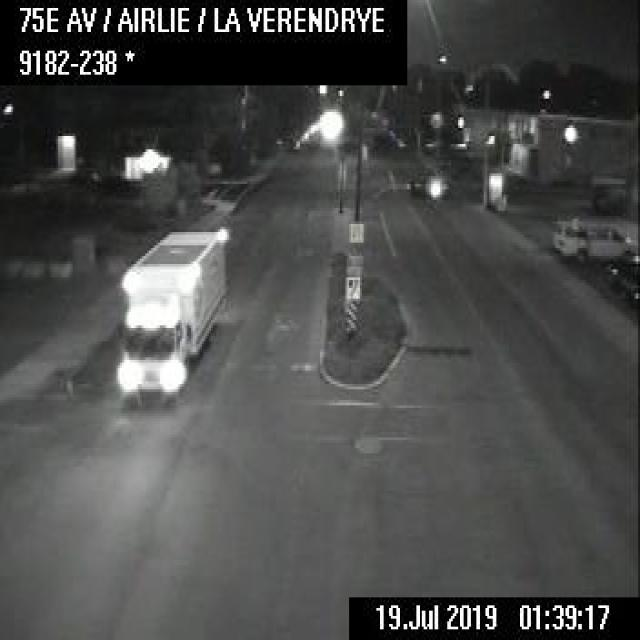vehicle: (115, 224, 228, 406), (550, 217, 637, 260)
